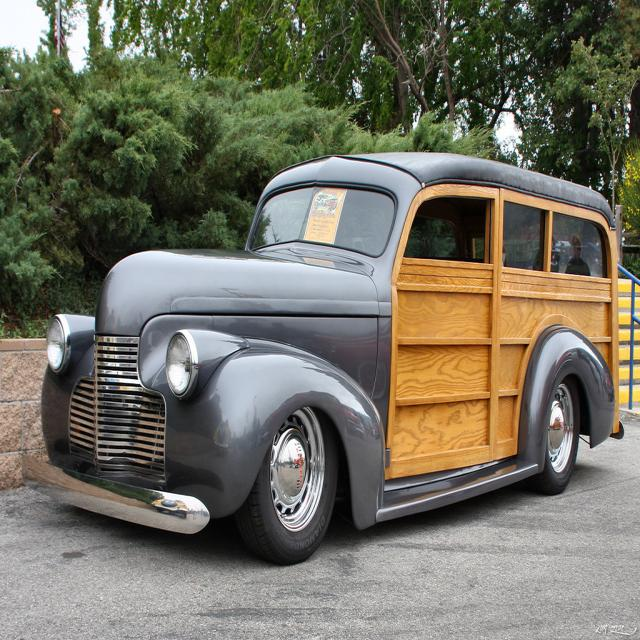car: (37, 159, 635, 562)
